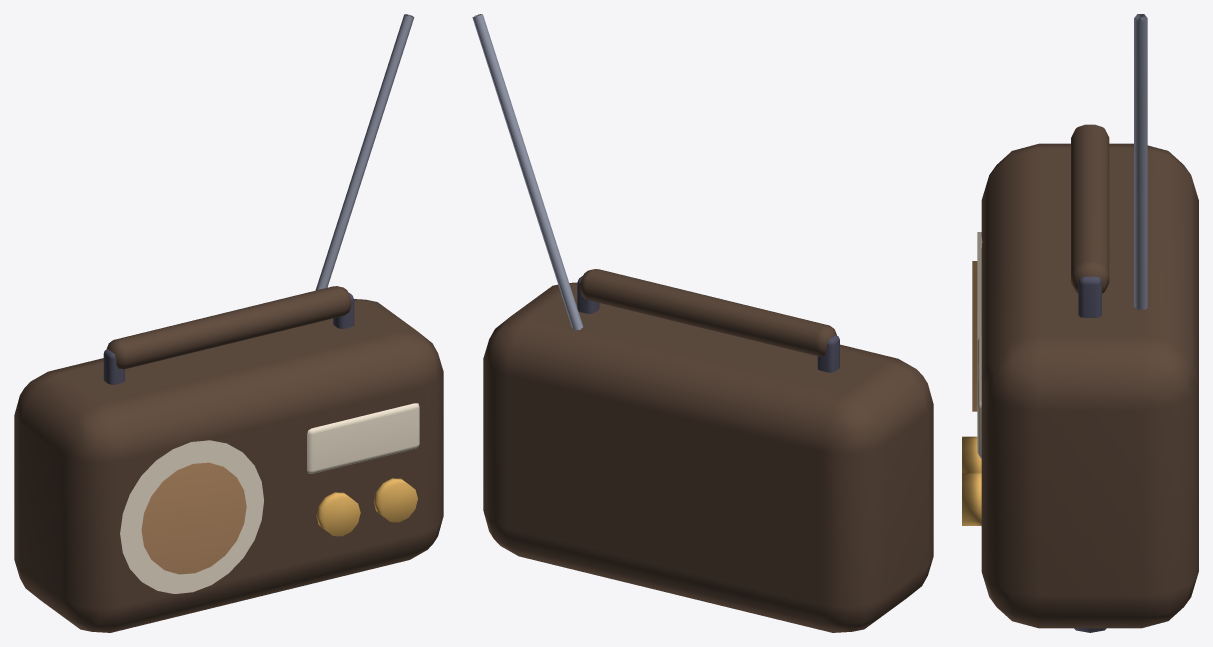
The model's file is radio.glb.
3 renders of one model, left to right at view 1: azimuth 30°, elevation 25°; view 2: azimuth 150°, elevation 25°; view 3: azimuth 270°, elevation 25°, orthographic. The views are drawn at different scales.
Parts seen in each view (by area): view 1: radio; view 2: radio; view 3: radio.
Boxes of the visible parts, box(x1,y1,x2,y2) form: radio: box(14, 14, 443, 632); radio: box(472, 14, 933, 632); radio: box(962, 14, 1198, 632).
Bounding box in the file's own units: 0.3423 × 0.4233 × 0.1404.
